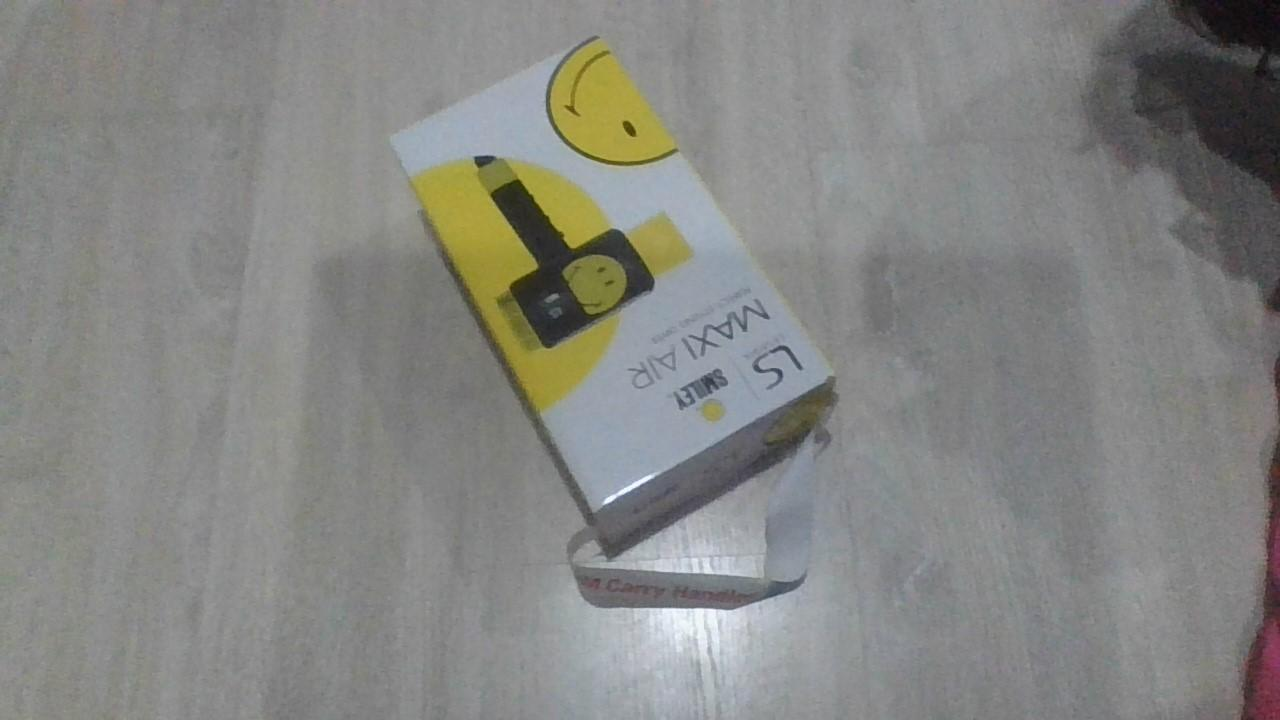Dryer: (385, 32, 838, 561)
